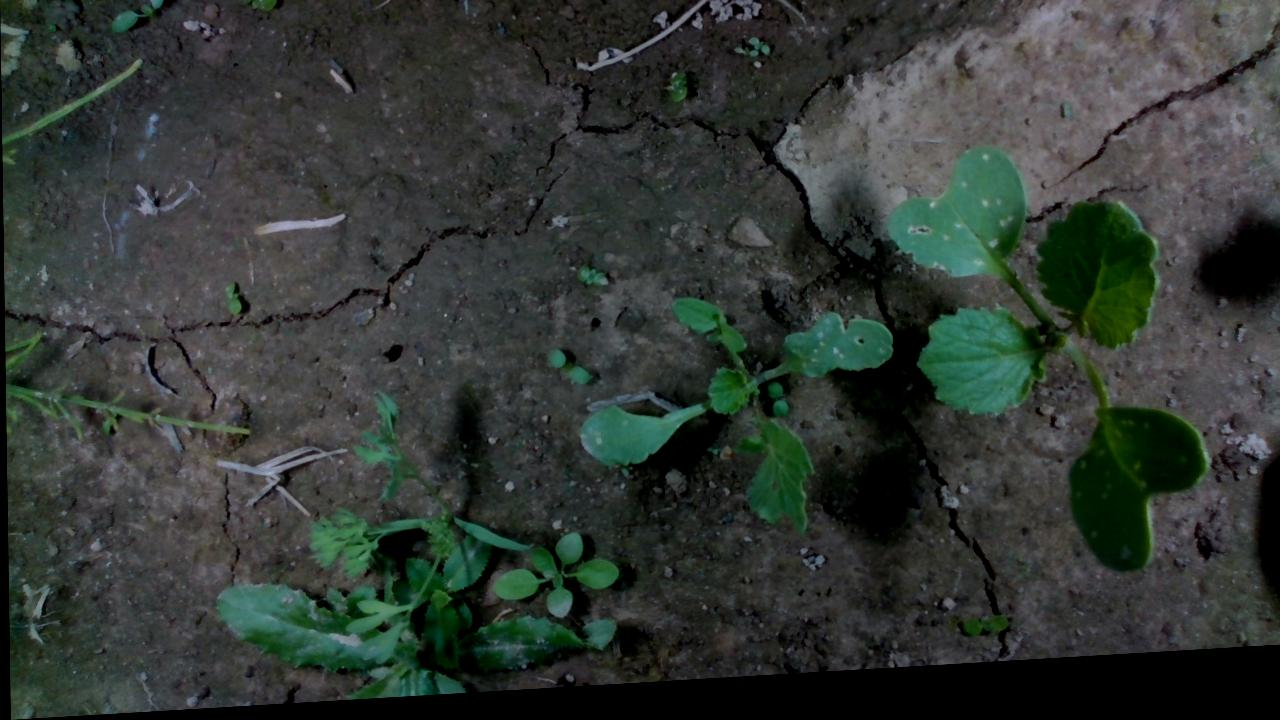weed: (540, 349, 602, 403), (216, 280, 256, 333), (957, 616, 1001, 651), (664, 79, 690, 115), (734, 41, 758, 78), (576, 269, 608, 296), (250, 0, 269, 26)
